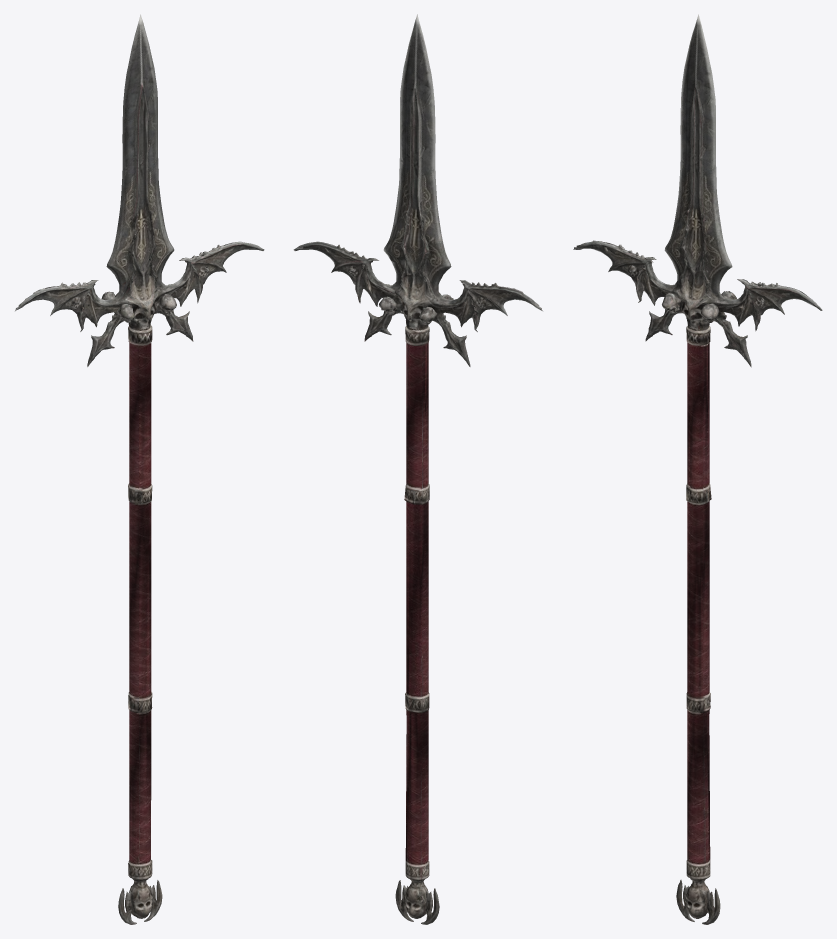
The model's file is spear-dragon.glb.
The picture shows the model from 3 angles, left to right: view 1: azimuth 30°, elevation 25°; view 2: azimuth 150°, elevation 25°; view 3: azimuth 330°, elevation 25°; orthographic projection.
Bounding box in the file's own units: 0.2739 × 0.9507 × 0.0513.
1 material, 1 textured.
